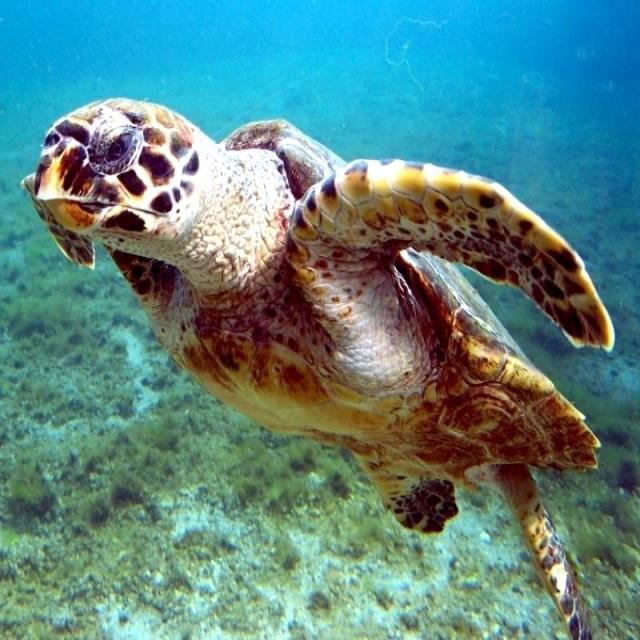Sea turtle: (26, 95, 640, 639)
